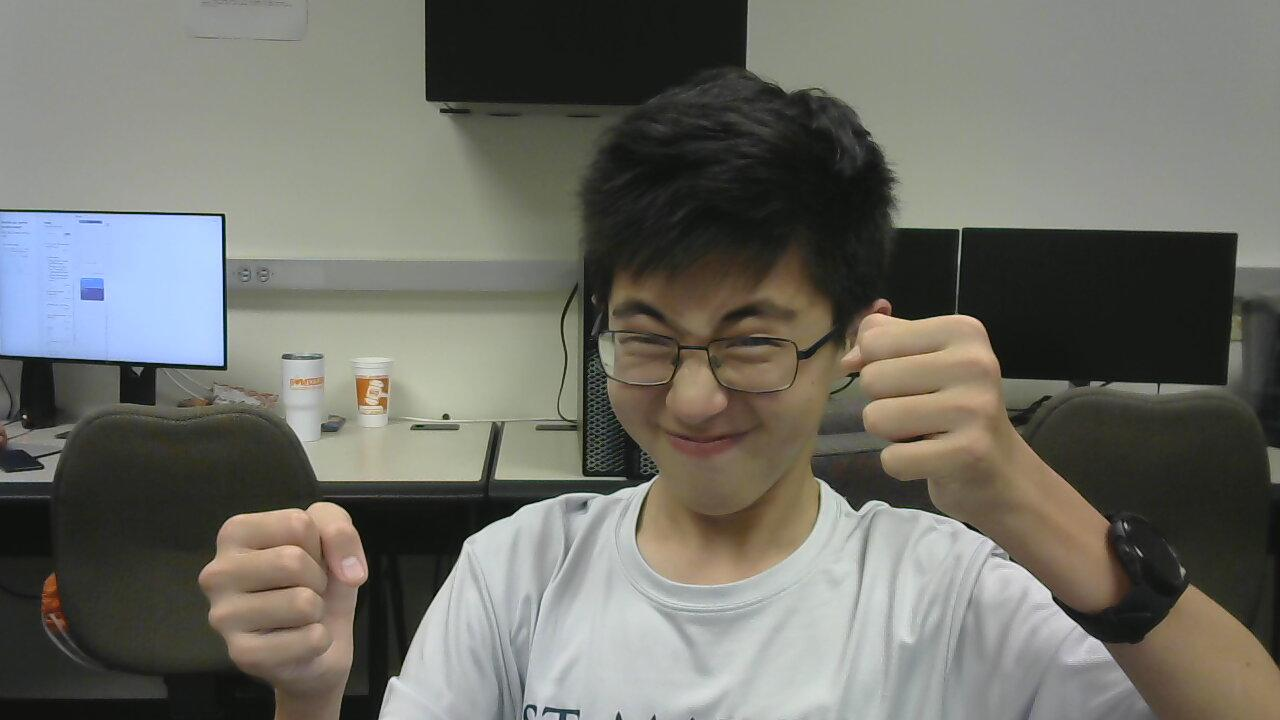fist: (186, 469, 389, 720), (841, 307, 1044, 524)
